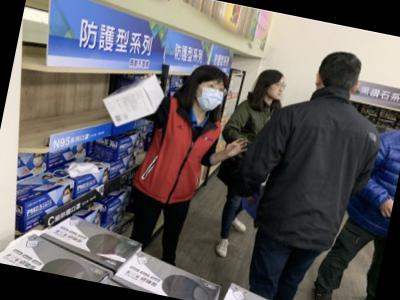with_mask: (193, 77, 229, 114)
without_mask: (268, 79, 288, 101)
